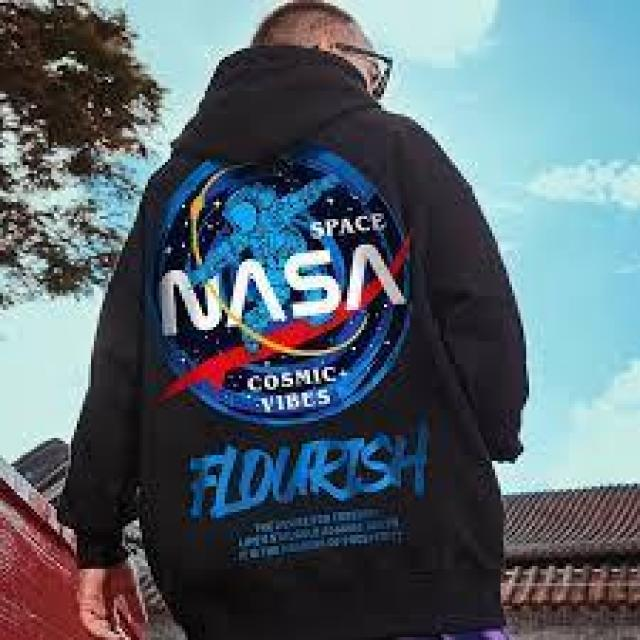sweater: (72, 34, 564, 640)
